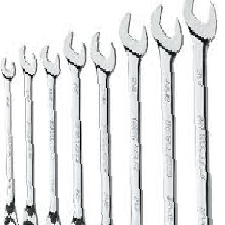Wrench: (182, 1, 224, 224), (114, 4, 151, 225), (150, 1, 182, 225), (87, 24, 121, 223), (61, 15, 88, 216), (13, 41, 40, 224), (37, 29, 63, 218), (3, 35, 19, 220)
